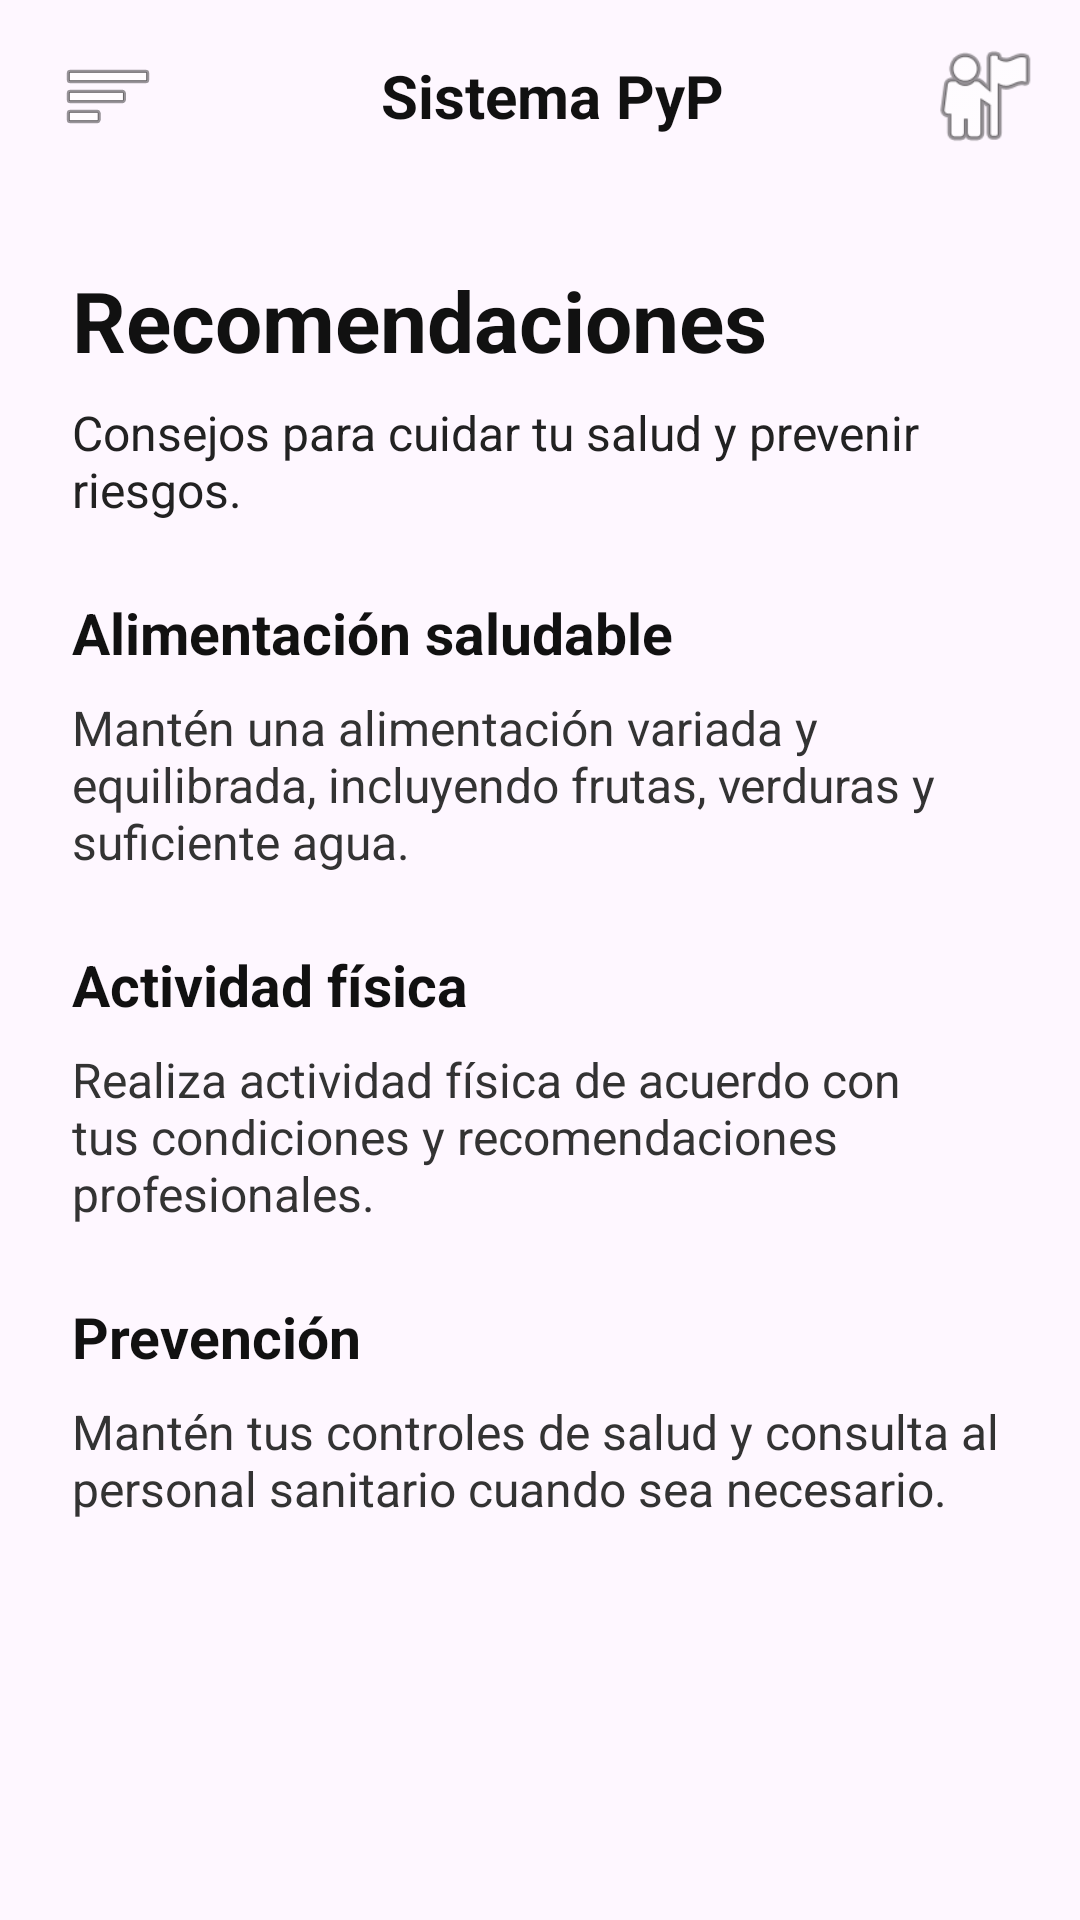

Point at icon controls on the screen. Image size 1080*1920, points as (x=x, y=y).
Abrir menú: (x=108, y=96)
Perfil: (x=985, y=96)
